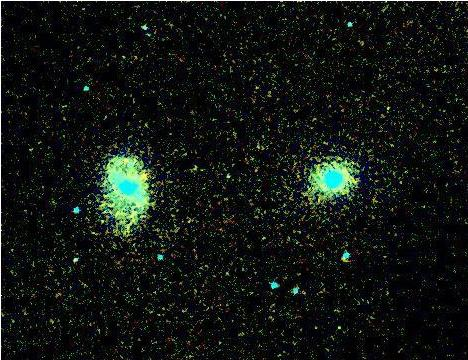star: (129, 157, 159, 187)
